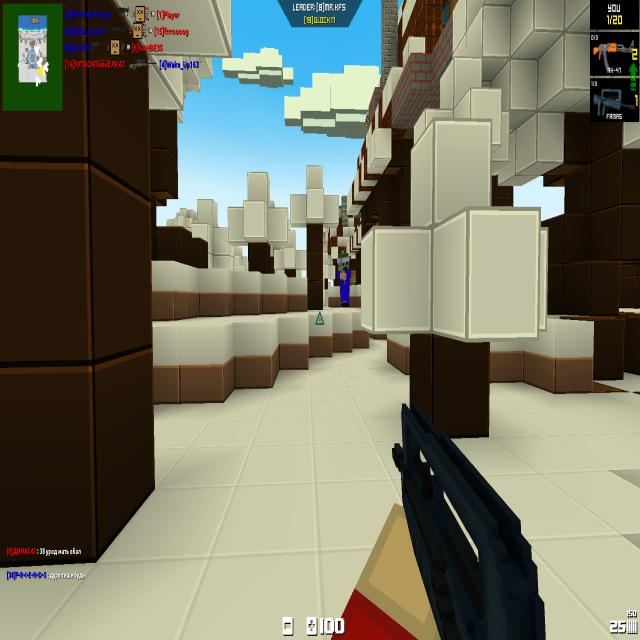enemy: (336, 249, 352, 308)
